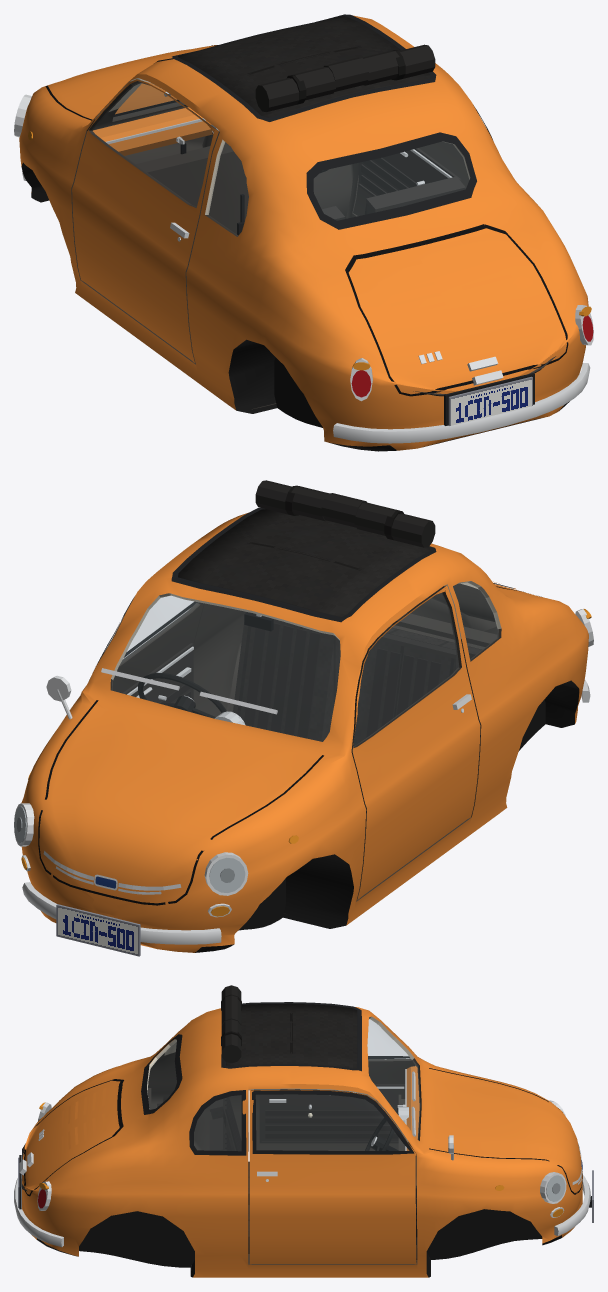
File: classic_r.glb
3 renders of one model, top to bottom at view 1: azimuth 30°, elevation 25°; view 2: azimuth 150°, elevation 25°; view 3: azimuth 270°, elevation 25°, orthographic. The views are drawn at different scales.
Parts seen in each view (by area): view 1: Body, Door_L, Glass, Interior, Roof_Closed, Door_L_Glass, Roof_Open, Door_R, Lights_Tail; view 2: Body, Glass, Interior, Door_L, Roof_Closed, Door_L_Glass, Roof_Open, Door_R, Lights_Head, SteeringWheel; view 3: Body, Door_R, Door_L, Roof_Closed, Door_R_Glass, Glass, Interior, Roof_Open, SteeringWheel.
Part boxes in pixels (x1,y1,x2,y2): Body: [14, 14, 593, 451]; Door_L: [72, 79, 219, 363]; Glass: [149, 83, 469, 234]; Interior: [93, 107, 465, 235]; Roof_Closed: [178, 16, 430, 117]; Door_L_Glass: [92, 83, 212, 206]; Roof_Open: [255, 44, 435, 111]; Door_R: [353, 141, 469, 215]; Lights_Tail: [351, 315, 593, 397]; Body: [14, 508, 593, 956]; Glass: [112, 582, 498, 741]; Interior: [182, 611, 497, 746]; Door_L: [351, 585, 480, 900]; Roof_Closed: [178, 509, 430, 617]; Door_L_Glass: [354, 593, 458, 745]; Roof_Open: [255, 480, 435, 547]; Door_R: [89, 596, 203, 703]; Lights_Head: [14, 806, 245, 892]; SteeringWheel: [138, 672, 226, 718]; Body: [14, 1002, 593, 1277]; Door_R: [249, 1089, 416, 1264]; Door_L: [251, 1056, 415, 1150]; Roof_Closed: [226, 1003, 357, 1068]; Door_R_Glass: [256, 1095, 408, 1150]; Glass: [147, 1019, 420, 1150]; Interior: [147, 1066, 419, 1262]; Roof_Open: [221, 985, 241, 1063]; SteeringWheel: [365, 1110, 398, 1150].
Size of the model in its own units: 1.32 by 1.29 by 3.07.
27 materials, 6 textured.
